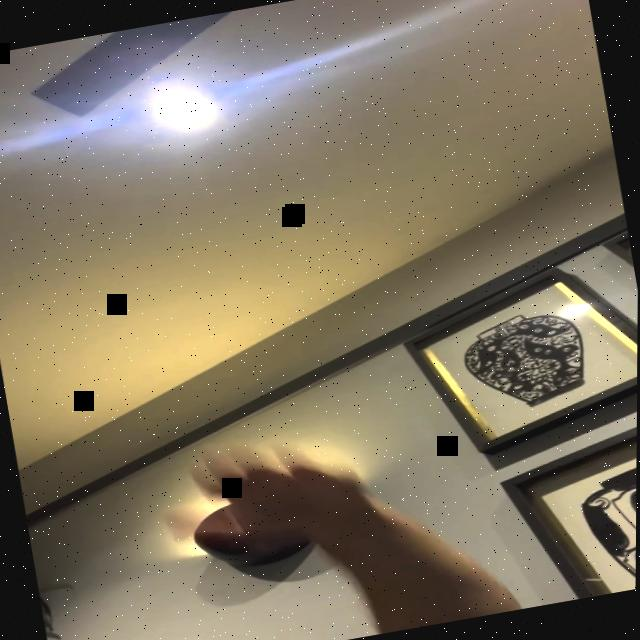Paper: (155, 423, 379, 571)
